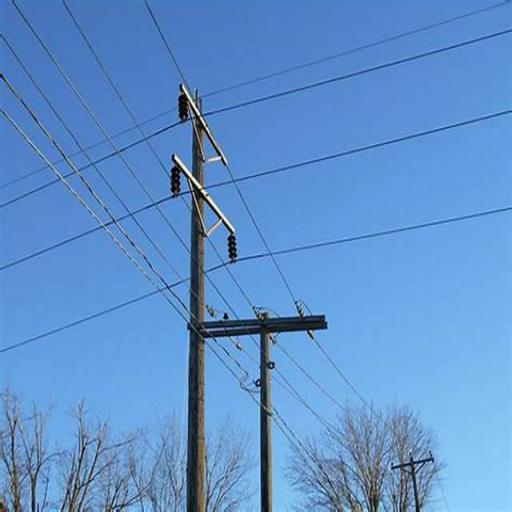mono_7: (189, 295, 330, 511), (390, 448, 437, 511)
mono_8: (168, 79, 238, 511)
